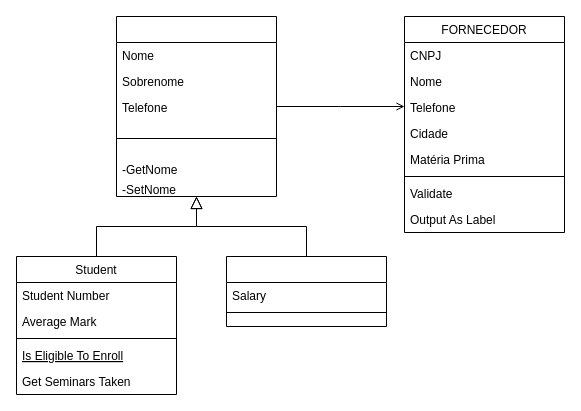
Some shapes in this 581 by 411 pixel diagram are drawn without their labels. Each missing label, with the box of its shape:
CLIENTE: (116, 16, 276, 196)
Professor: (226, 256, 386, 326)
